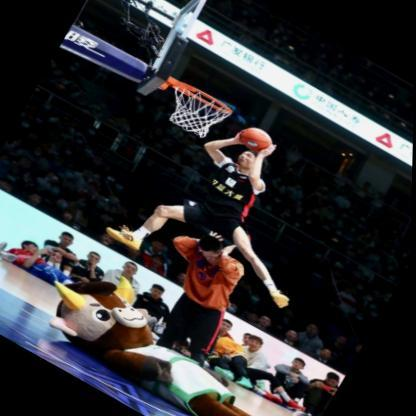basketball: (238, 123, 275, 158)
rim: (158, 79, 234, 145)
